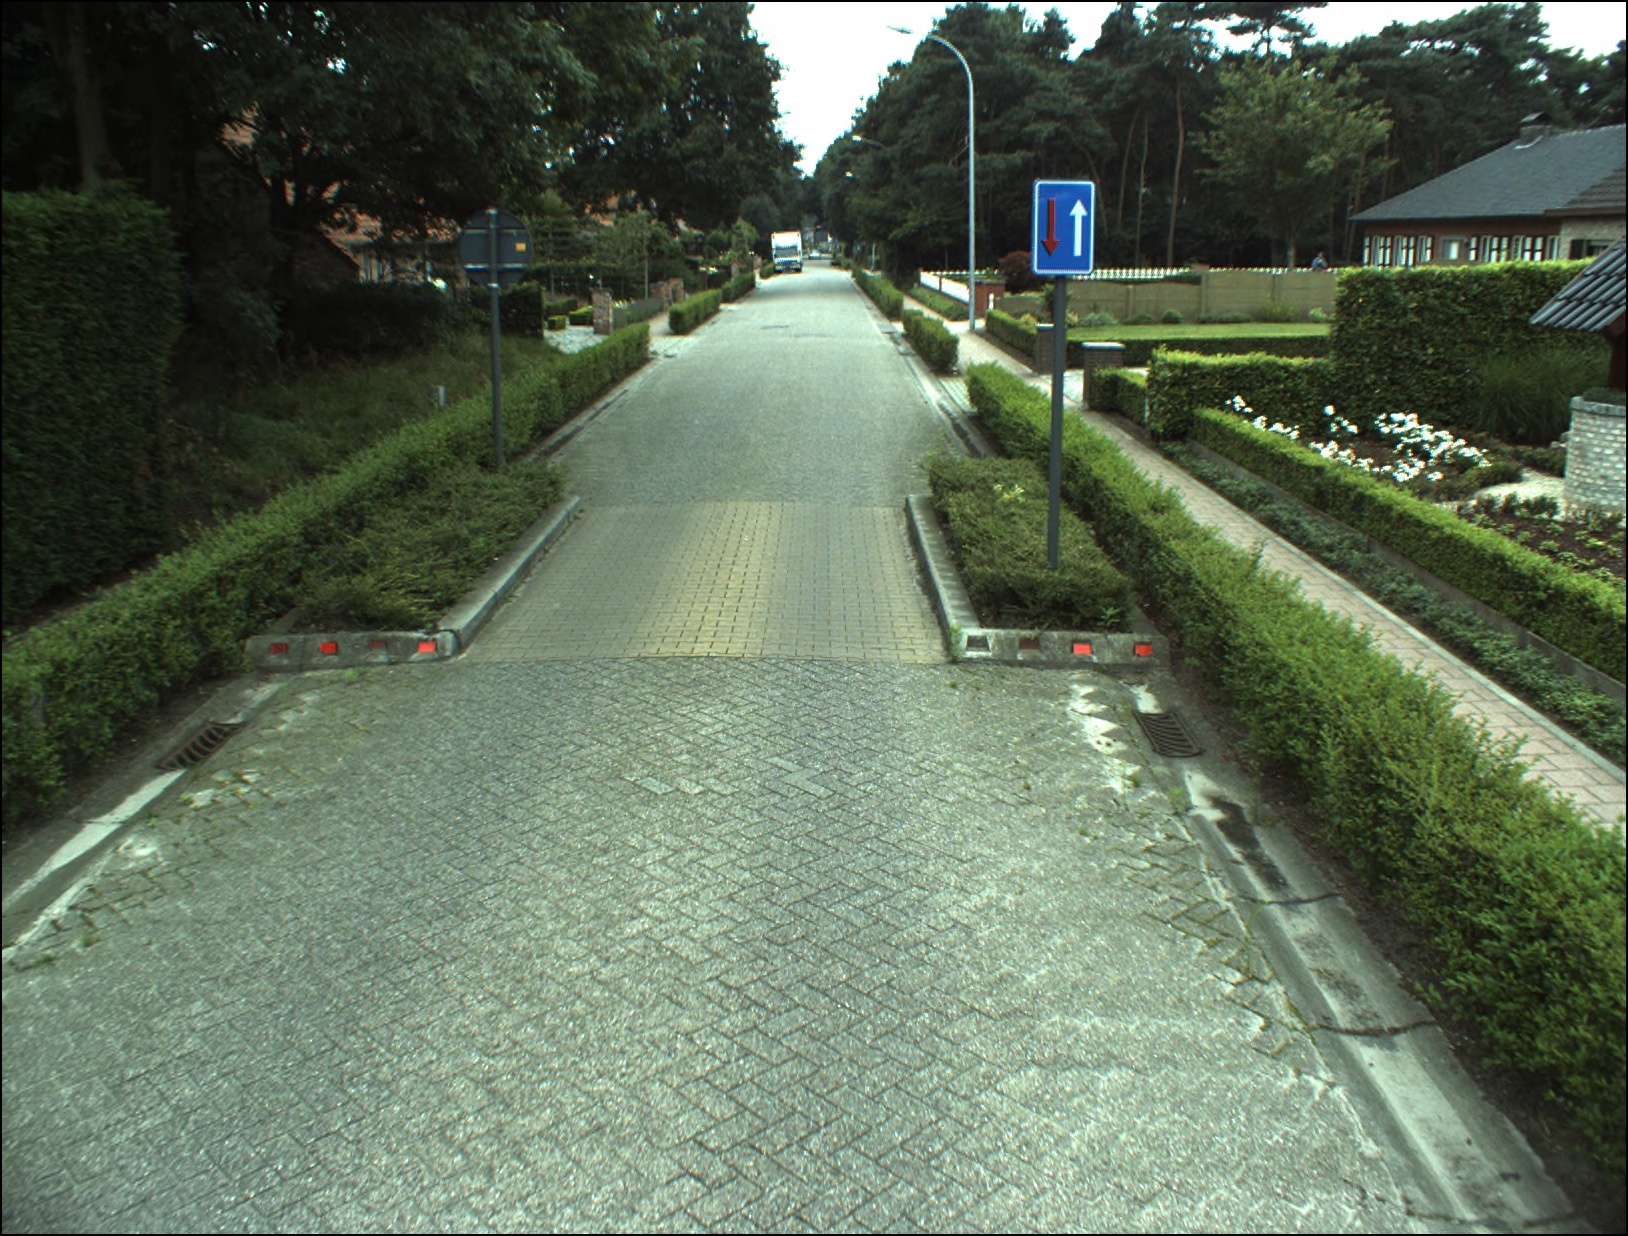roadnarrow1: (1031, 177, 1100, 273)
